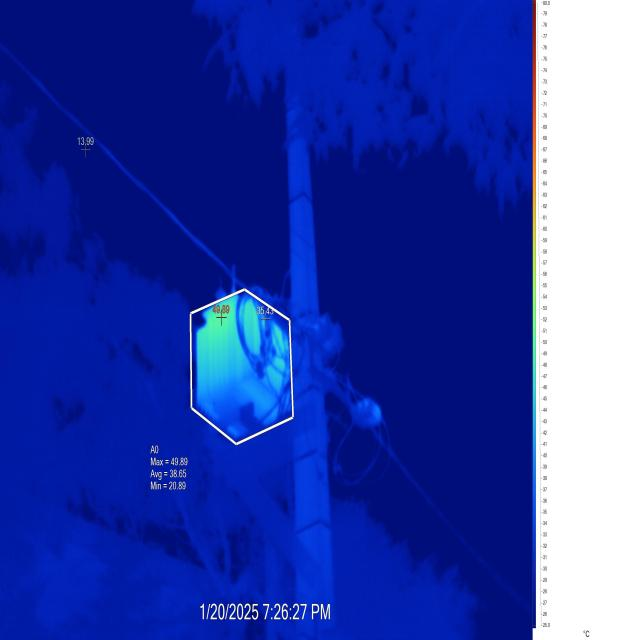Transformer: (4, 23, 530, 635)
